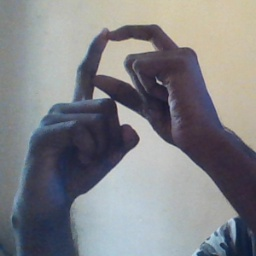D: (62, 20, 183, 143)
